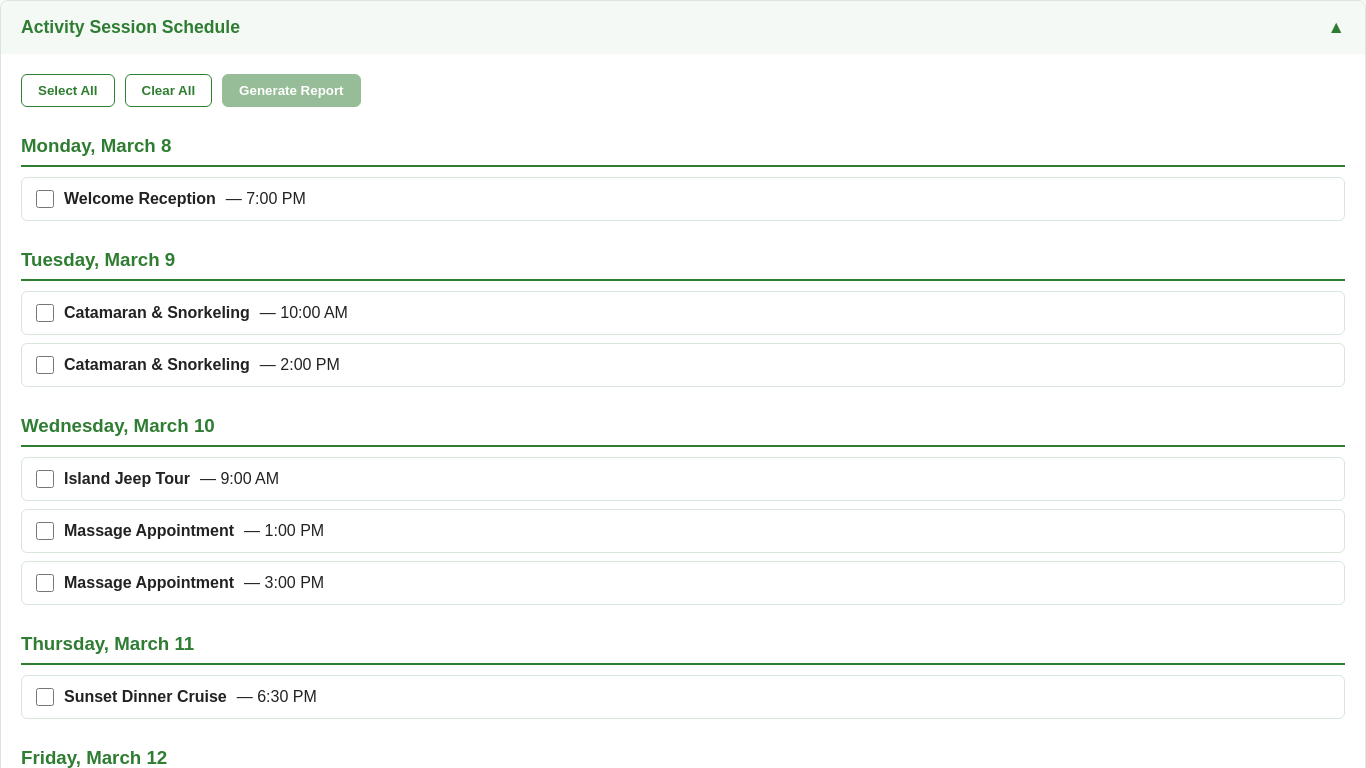
Test case: ActivitySessionReportBuilder › collapses and hides the report controls when the section toggle is clicked
The width and height of the screenshot is (1366, 768).
Click the button "Activity Session Schedule ▲".
click(131, 27)  # box top-left (1, 1), bottom-right (1365, 54)
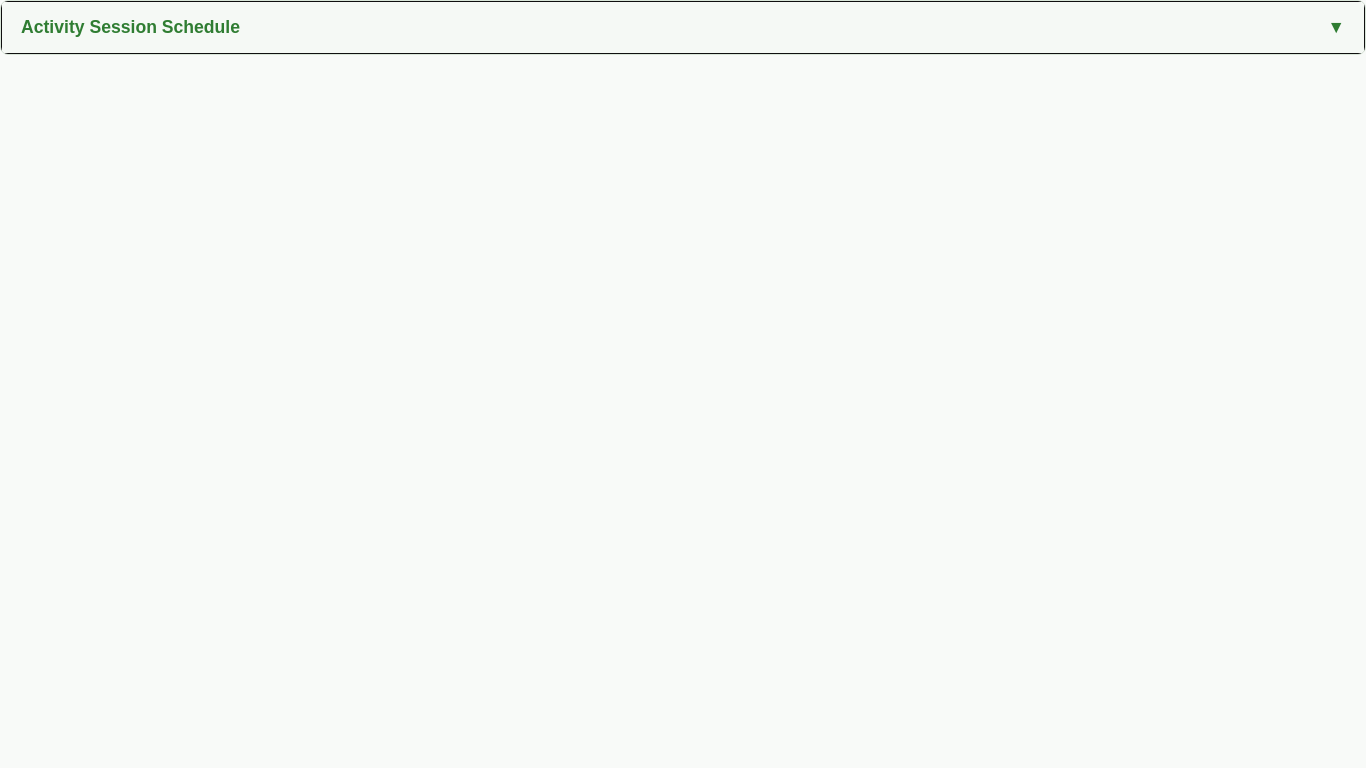
Now the button "Activity Session Schedule ▼" is collapsed, box top-left (1, 1), bottom-right (1365, 54)
Now the button "Generate Report" is gone
Now no checkboxes are shown
